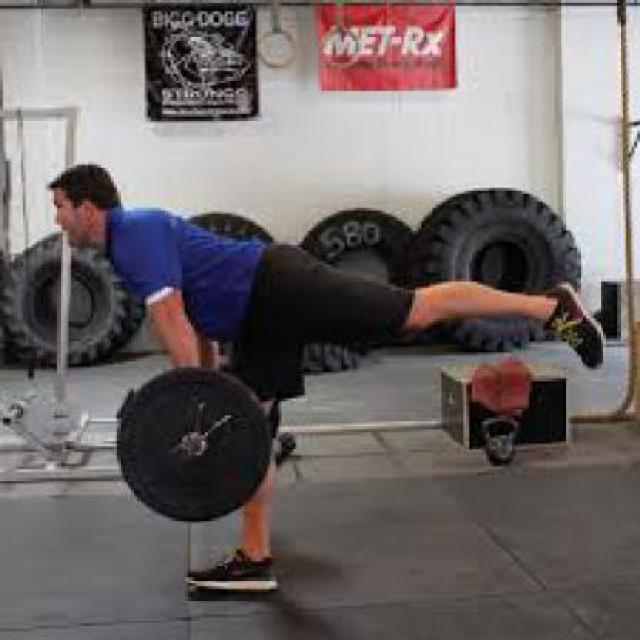Barbell: (181, 430, 210, 458)
